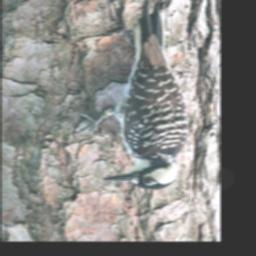Woodpecker: (68, 0, 195, 191)
